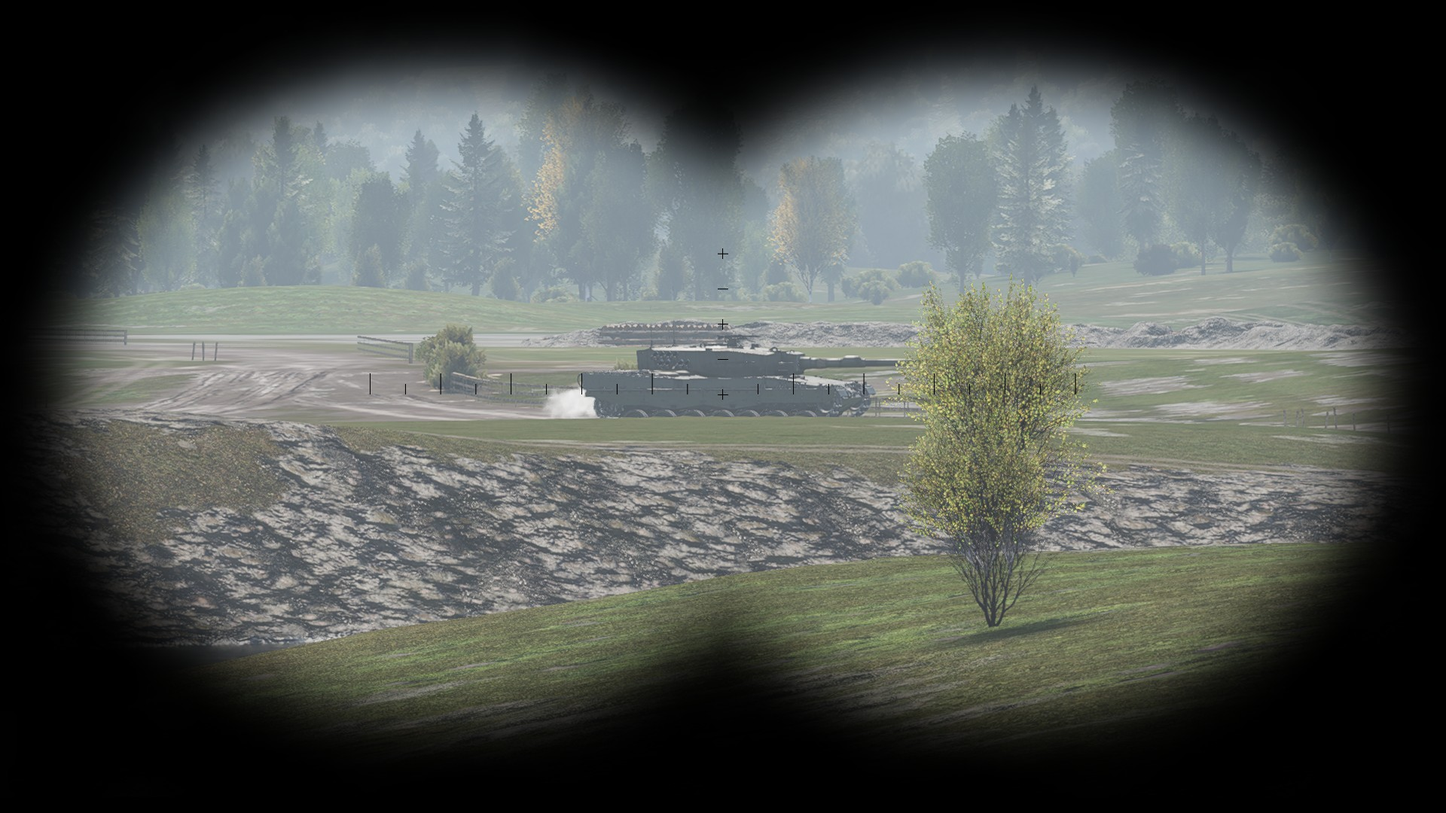leopard2: (577, 333, 920, 420)
